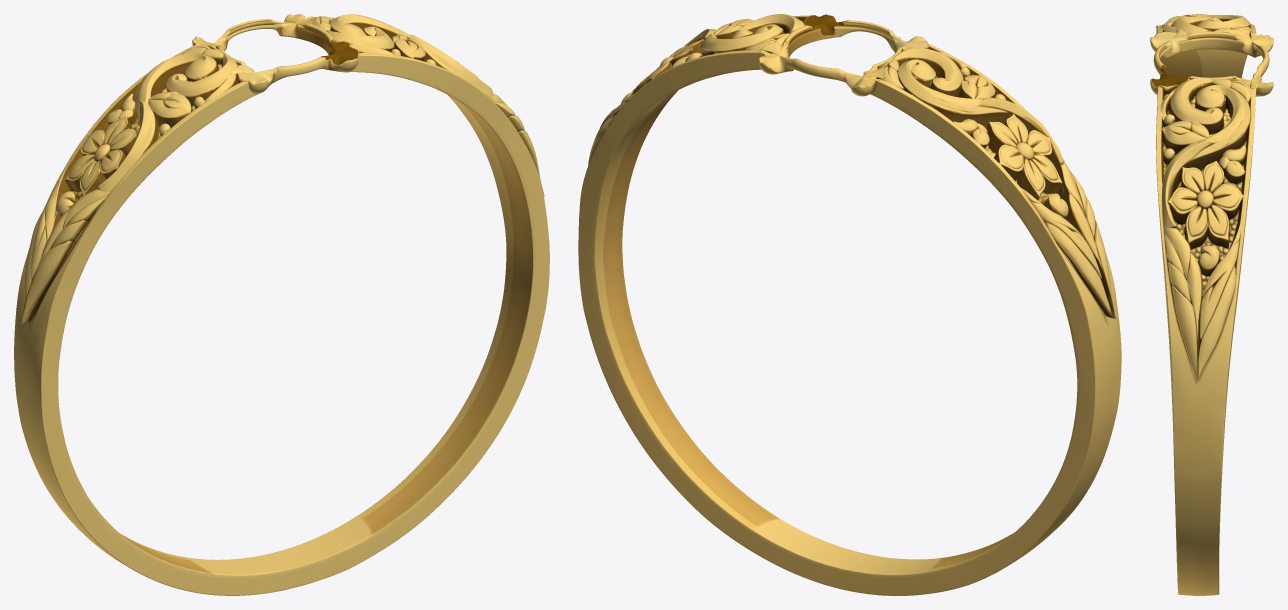
The model's file is nodiamond8.glb.
3 views of the same model, side by side, from view 1: azimuth 30°, elevation 25°; view 2: azimuth 150°, elevation 25°; view 3: azimuth 270°, elevation 25° (orthographic). The views are drawn at different scales.
Bounding box in the file's own units: 1.9 × 1.87 × 0.4048.
1 material, 1 textured.
